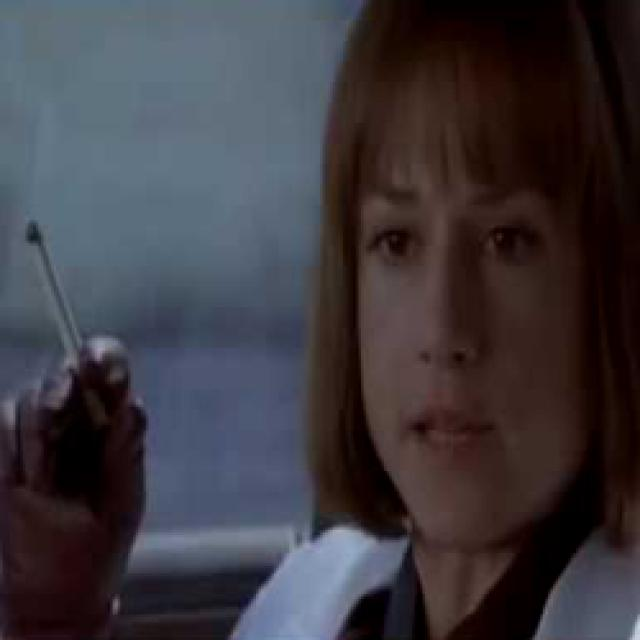Smooking: (24, 214, 86, 381)
